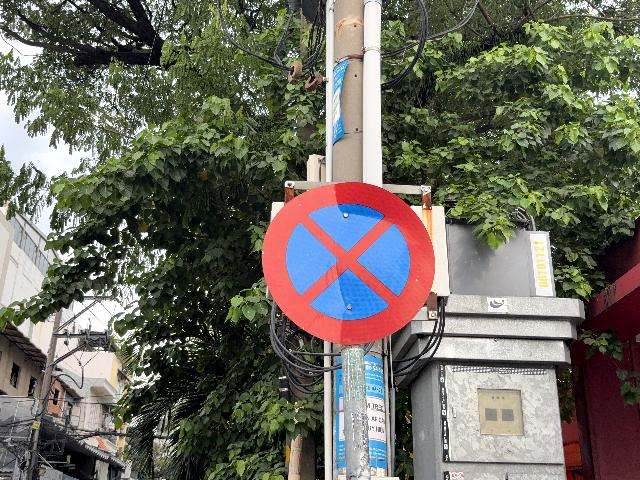cam-dung-va-do-xe: (263, 182, 436, 346)
